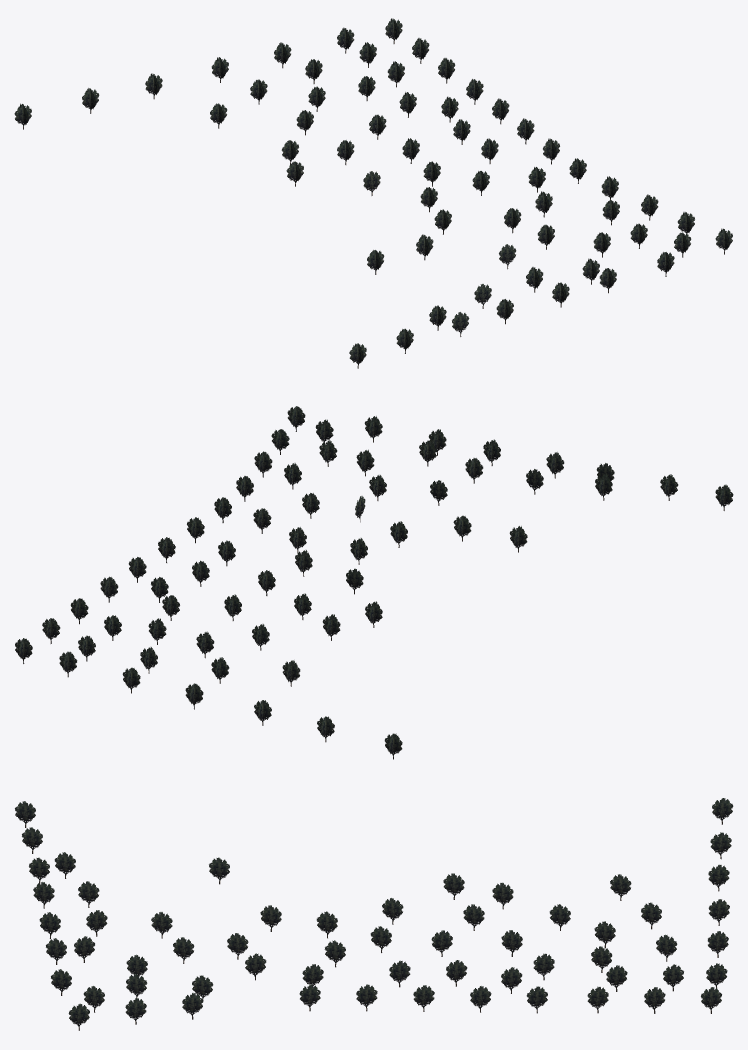
The model's file is planeTree25.FBX.
The picture shows the model from 3 angles, top to bottom: view 1: azimuth 30°, elevation 25°; view 2: azimuth 150°, elevation 25°; view 3: azimuth 270°, elevation 25°; orthographic projection. The views are drawn at different scales.
Parts seen in each view (by area): view 1: planeTree025; view 2: planeTree025; view 3: planeTree025.
Part boxes in pixels (bbox=[...]): planeTree025: bbox=[14, 18, 732, 368]; planeTree025: bbox=[15, 406, 733, 759]; planeTree025: bbox=[15, 798, 733, 1030].
Size of the model in its own units: 4695 by 279 by 6624.
